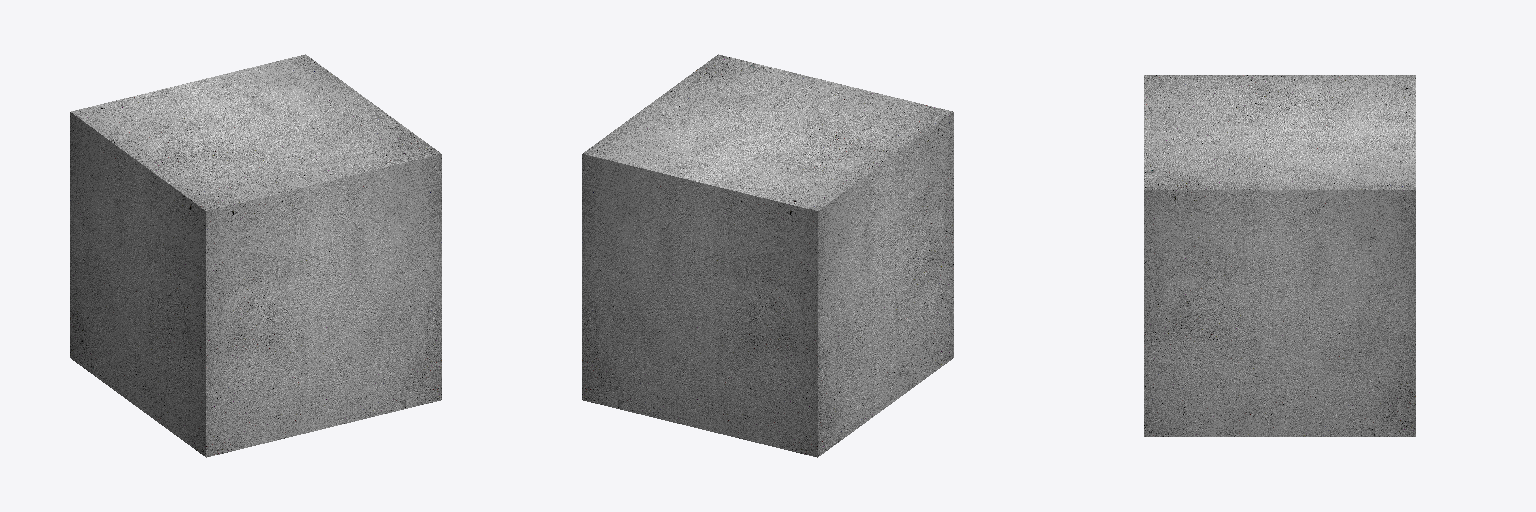
The picture shows the model from 3 angles: view 1: azimuth 30°, elevation 25°; view 2: azimuth 150°, elevation 25°; view 3: azimuth 270°, elevation 25°; orthographic projection.
Parts seen in each view (by area): view 1: Cube; view 2: Cube; view 3: Cube.
Part boxes in pixels (x1,y1,x2,y2): Cube: (70, 54, 441, 457); Cube: (582, 54, 953, 457); Cube: (1144, 75, 1415, 436).
Bounding box in the file's own units: 2 × 2 × 2.
Materials: 1 (1 with a texture image).